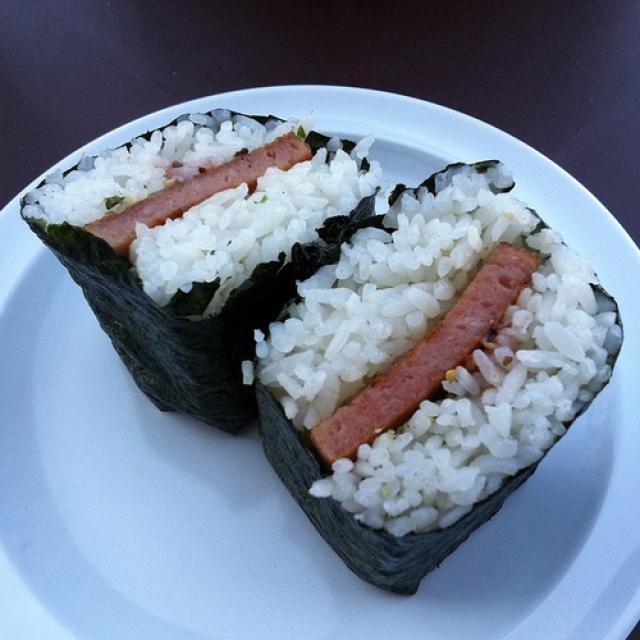寿司卷物: (12, 82, 627, 610)
